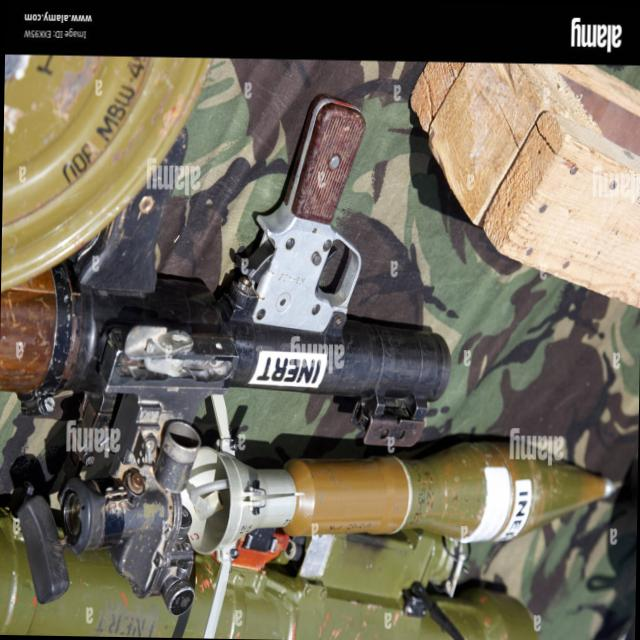Gun: (0, 344, 595, 592)
